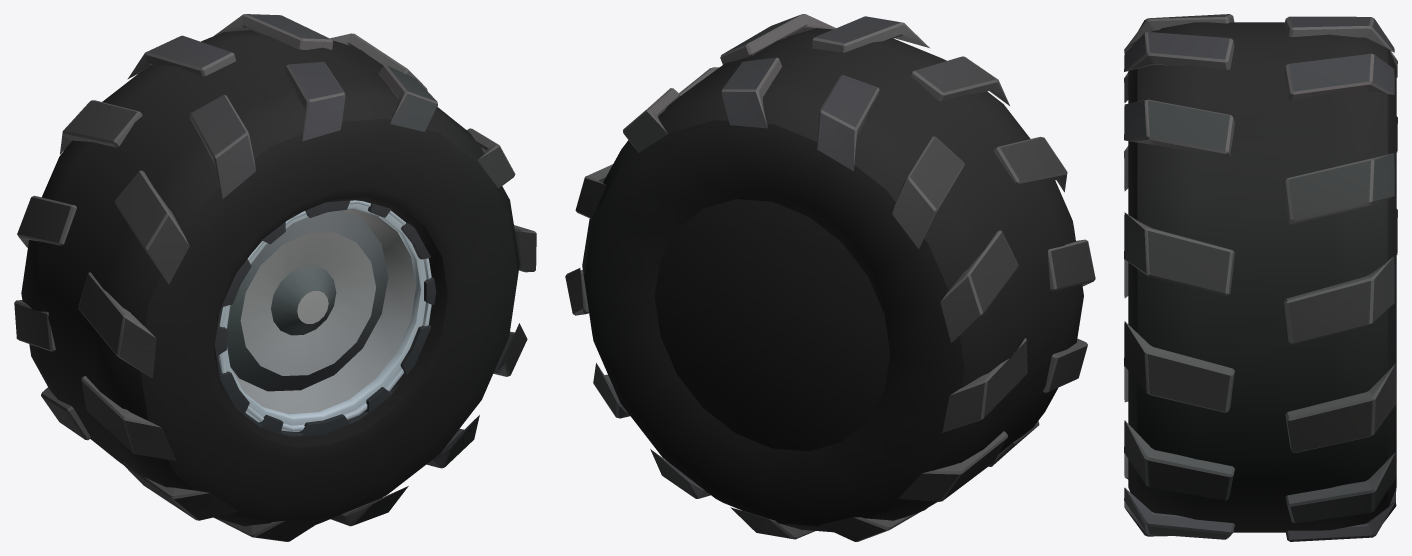
Rendered from wheel_03.fbx.
3 renders of one model, left to right at view 1: azimuth 30°, elevation 25°; view 2: azimuth 150°, elevation 25°; view 3: azimuth 270°, elevation 25°, orthographic. The views are drawn at different scales.
Parts seen in each view (by area): view 1: wheel_03; view 2: wheel_03; view 3: wheel_03.
Part boxes in pixels (x1,y1,x2,y2): wheel_03: (14, 14, 536, 541); wheel_03: (565, 14, 1095, 541); wheel_03: (1124, 14, 1397, 541).
Size of the model in its own units: 105 by 106 by 54.79.
